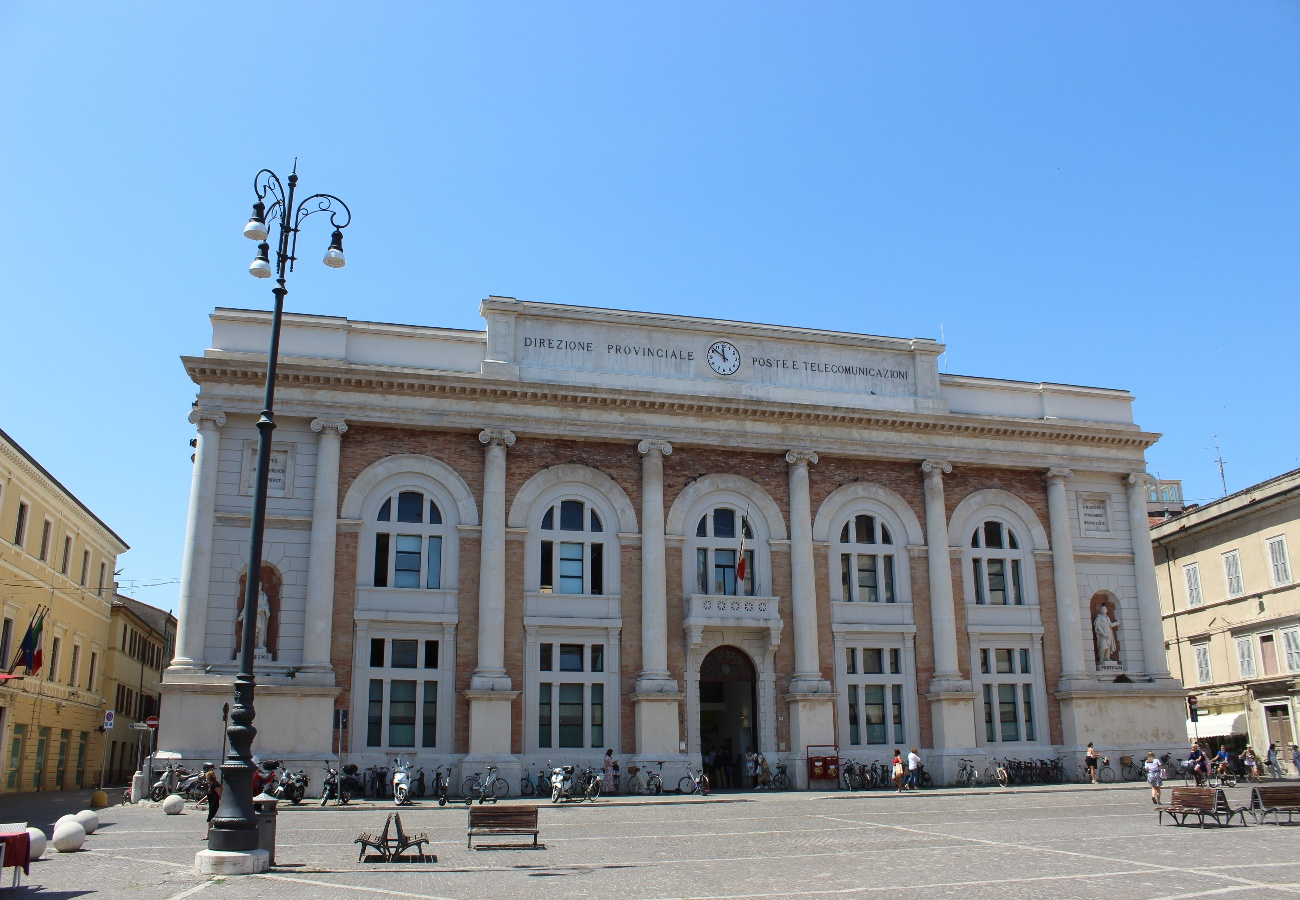Palazzo delle Poste: (186, 297, 1196, 784)
